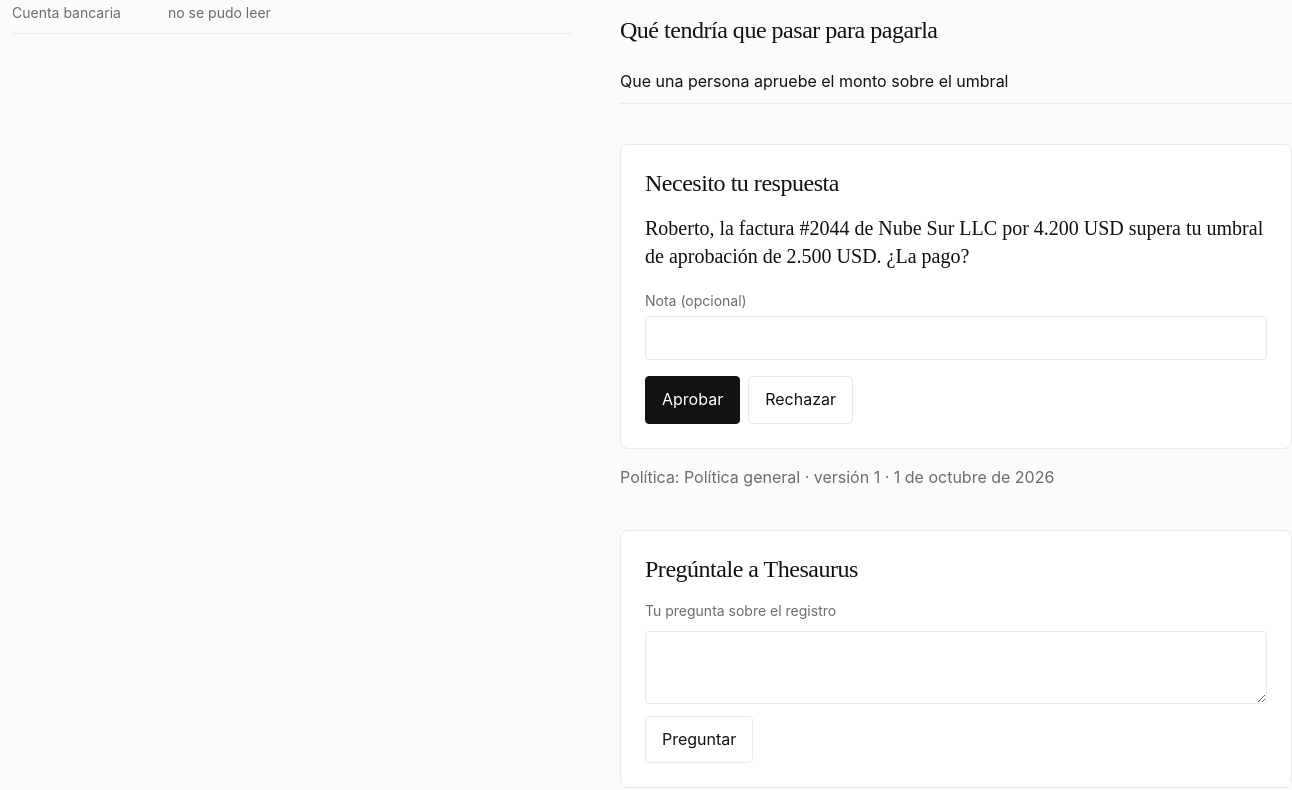
Test case: a 409 already_decided says so and reloads
(page scrolled)
Click the button "Aprobar": point(693, 400) [645,376,740,424]
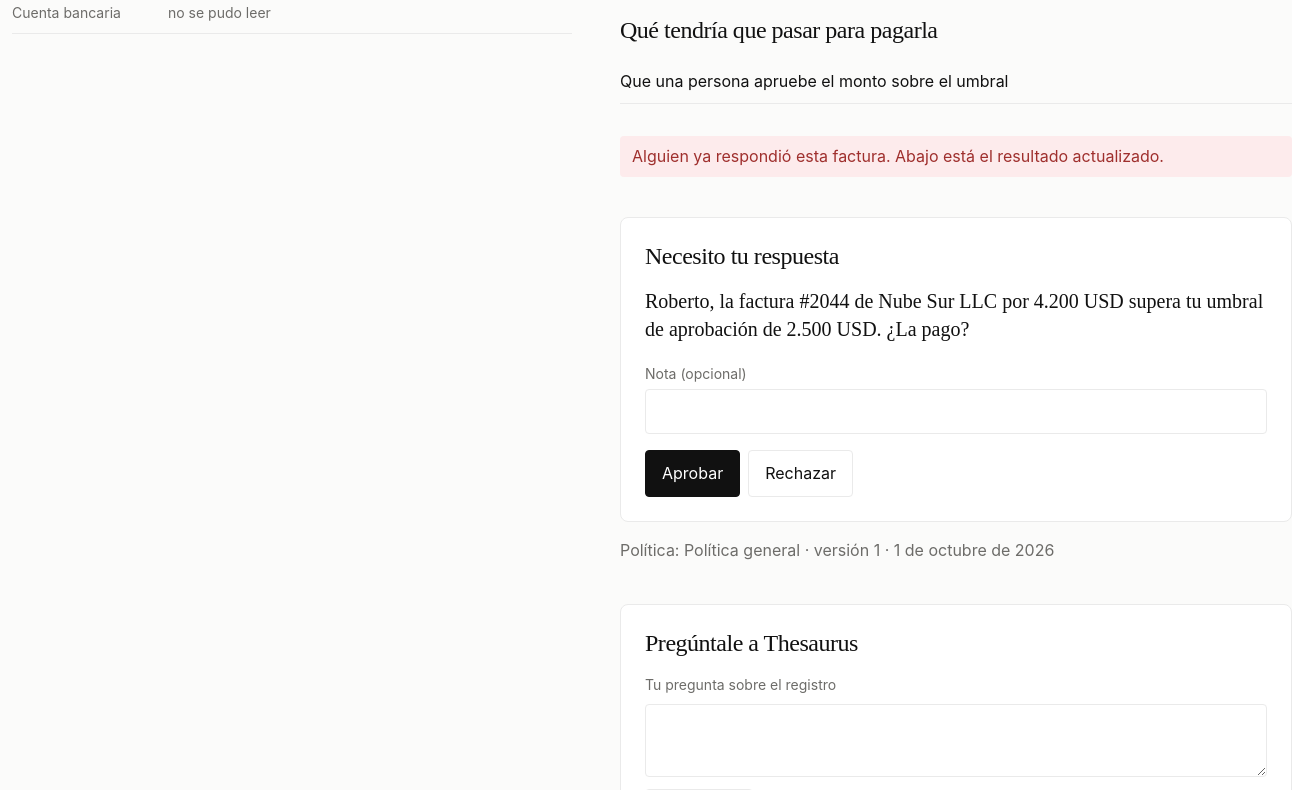
expect the text "Alguien ya respondió esta factura. Abajo está el resultado actualizado." is shown: met, box [620,136,1291,177]
